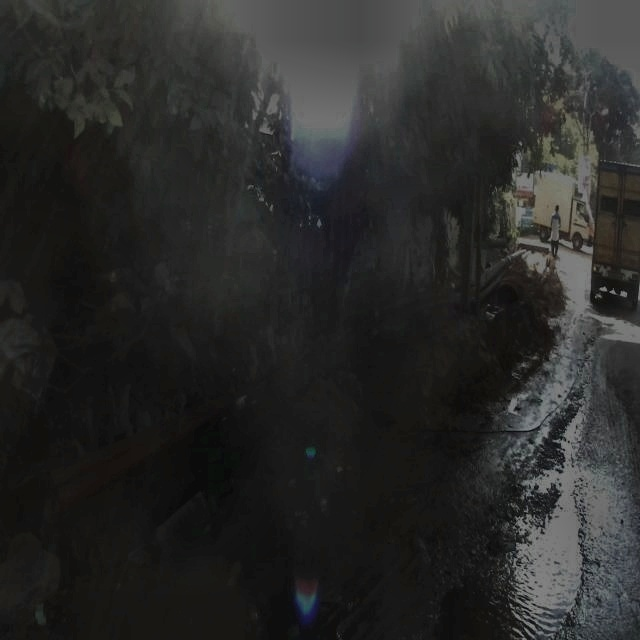Pothole: (517, 395, 640, 640), (149, 492, 263, 640), (544, 307, 602, 390)
